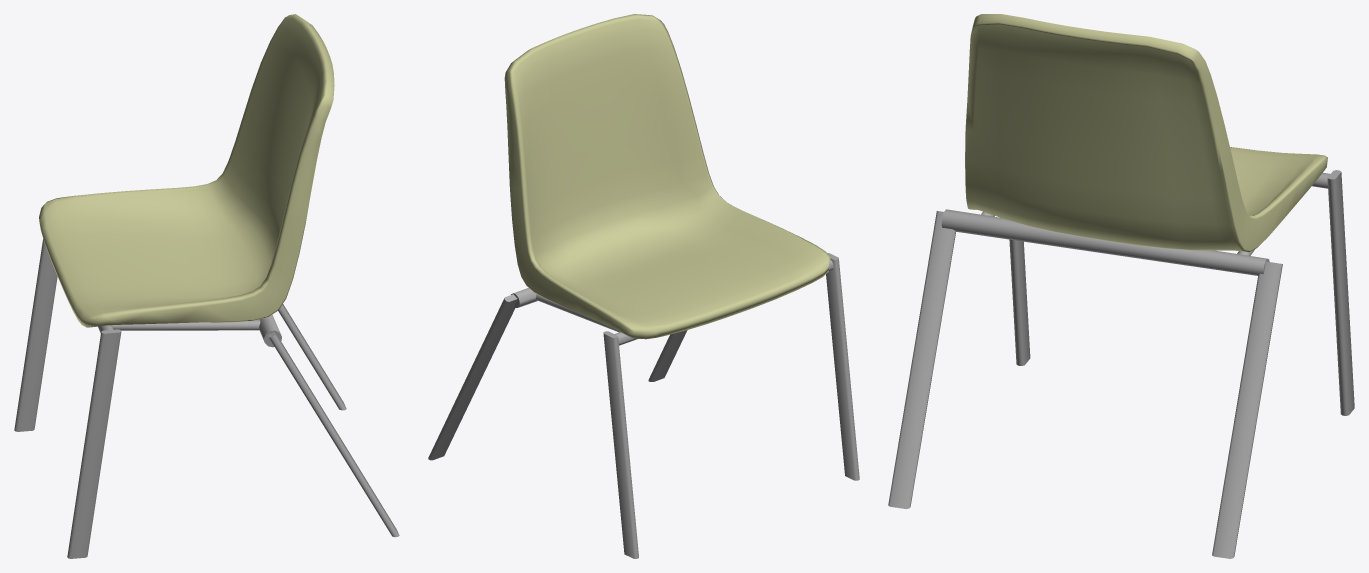
Rendered from yizi.fbx.
The picture shows the model from 3 angles, left to right: view 1: azimuth 30°, elevation 25°; view 2: azimuth 150°, elevation 25°; view 3: azimuth 270°, elevation 25°; orthographic projection. The views are drawn at different scales.
Visible parts, largest first — view 1: yizi; view 2: yizi; view 3: yizi.
Boxes of the visible parts, x1,y1,x2,y2 form: yizi: (14,14,399,558); yizi: (428,14,859,558); yizi: (888,14,1354,558).
Bounding box in the file's own units: 68.71 × 76.29 × 66.97.
